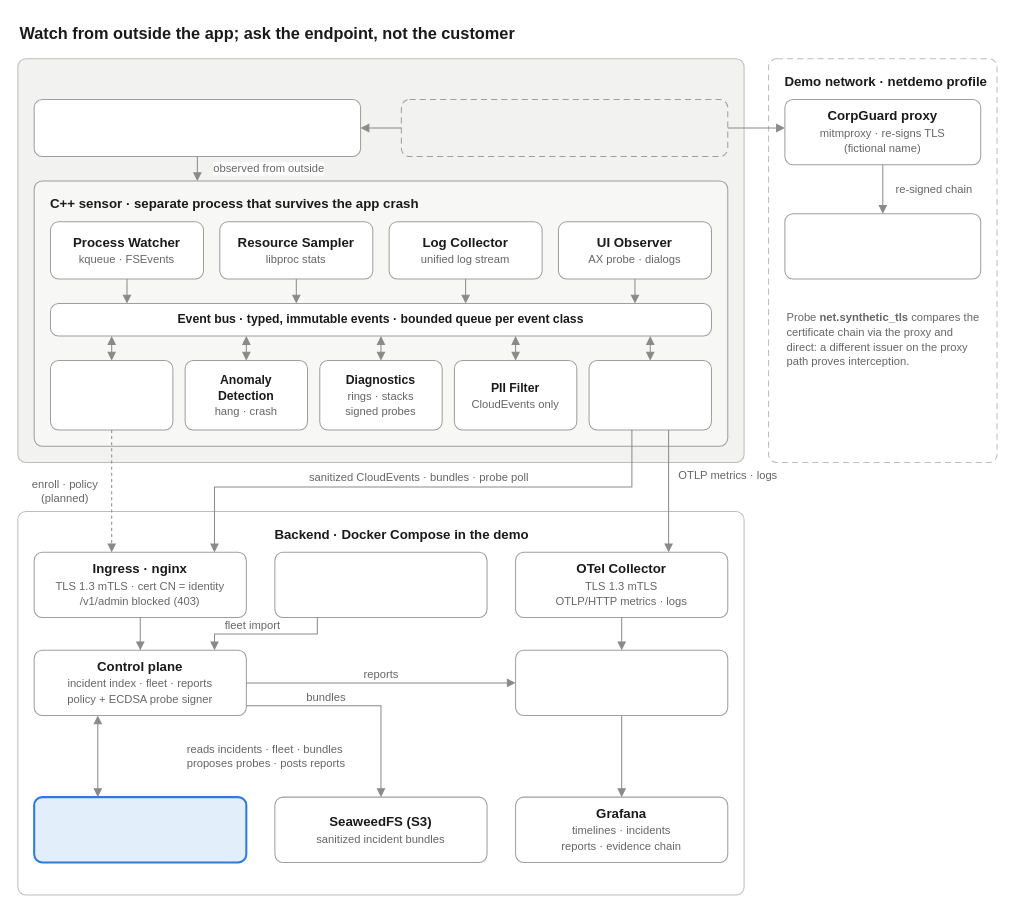
This 1015x913 diagram has some shape labels left out. Here are the shapes that lost their labels. From the top down, the box of each, then its label:
(33, 98, 361, 157): macOS telemetry libproc · kqueue · FSEvents · unified log · AX
(400, 98, 728, 157): Monitored black-box app no source · no SDK · may crash or hang
(17, 58, 744, 463): macOS endpoint · MDM grants FDA, Accessibility and the sysext silently
(784, 213, 981, 279): App backend nginx · own CA pinned by the app
(49, 360, 173, 430): Config and Bootstrap enroll · policy (planned)
(588, 360, 711, 430): Cloud Client mTLS · spool probe poll
(274, 551, 487, 618): Simulated fleet 200 endpoints injected root causes
(515, 649, 728, 716): Prometheus · Loki metrics · logs investigation reports
(33, 796, 247, 863): AI investigator fleet diff · crash / hang dumps Claude / rules · watch mode
